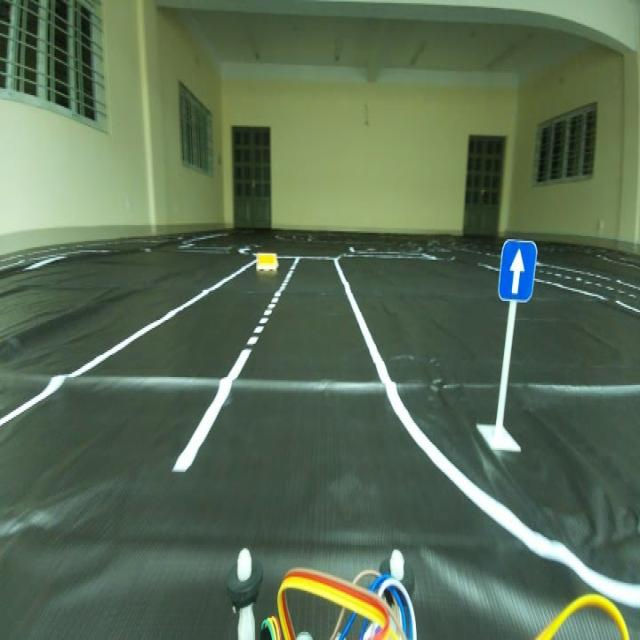onewayroad: (496, 224, 537, 299)
roadblock: (256, 247, 283, 271)
